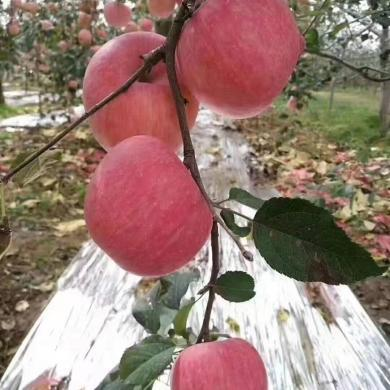apple: (83, 136, 212, 277), (173, 1, 303, 119), (82, 30, 199, 152), (170, 336, 269, 390)
